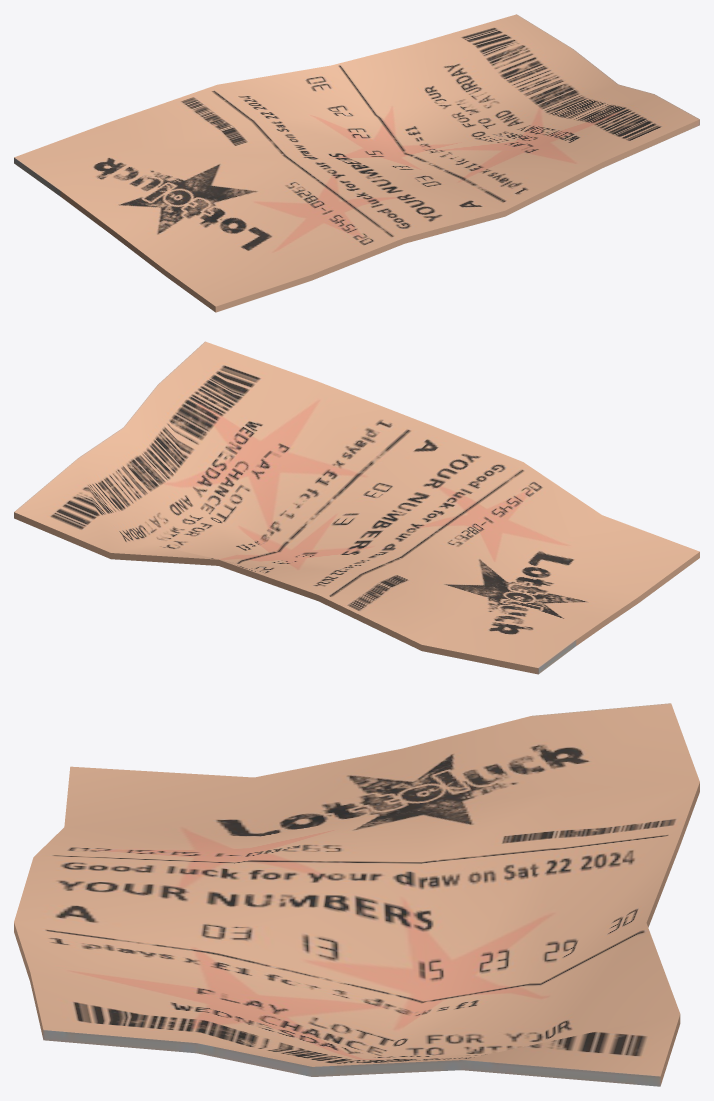
File: ticket.fbx
3 renders of one model, top to bottom at view 1: azimuth 30°, elevation 25°; view 2: azimuth 150°, elevation 25°; view 3: azimuth 270°, elevation 25°, orthographic. The views are drawn at different scales.
Parts seen in each view (by area): view 1: Biglietto; view 2: Biglietto; view 3: Biglietto.
Boxes of the visible parts, x1=… form: Biglietto: x1=14, y1=14, x2=699, y2=312; Biglietto: x1=14, y1=341, x2=699, y2=674; Biglietto: x1=14, y1=703, x2=699, y2=1086.
Bounding box in the file's own units: 10 × 1.67 × 7.
